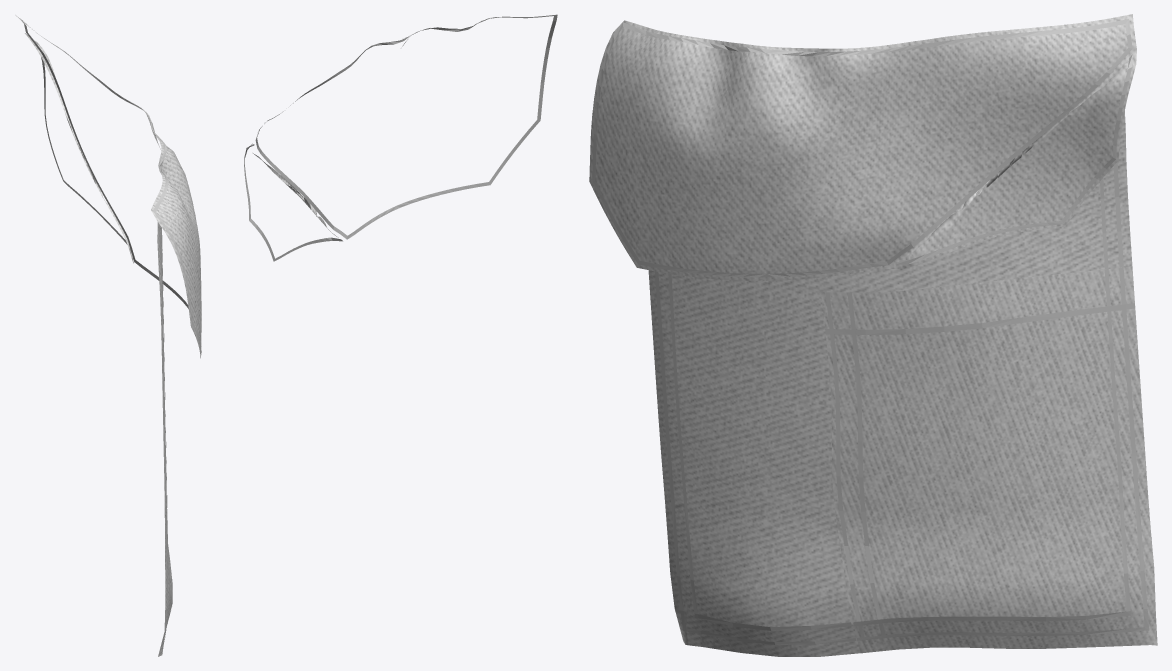
File: Pocket_Right_V1.glb
The picture shows the model from 3 angles, left to right: view 1: azimuth 30°, elevation 25°; view 2: azimuth 150°, elevation 25°; view 3: azimuth 270°, elevation 25°; orthographic projection. The views are drawn at different scales.
Parts seen in each view (by area): view 1: Pocket_Right_V11, Rope1; view 2: Rope1; view 3: Pocket_Right_V11, Pocket_Right_V1_N1, Rope1.
Part boxes in pixels (x1,y1,x2,y2): Pocket_Right_V11: [15, 15, 201, 656]; Rope1: [20, 18, 201, 641]; Rope1: [244, 14, 557, 261]; Pocket_Right_V11: [589, 14, 1157, 656]; Pocket_Right_V1_N1: [821, 266, 1157, 653]; Rope1: [592, 19, 1149, 644].
Size of the model in its own units: 0.0608 by 0.2901 by 0.2307.
3 materials, 3 textured.
